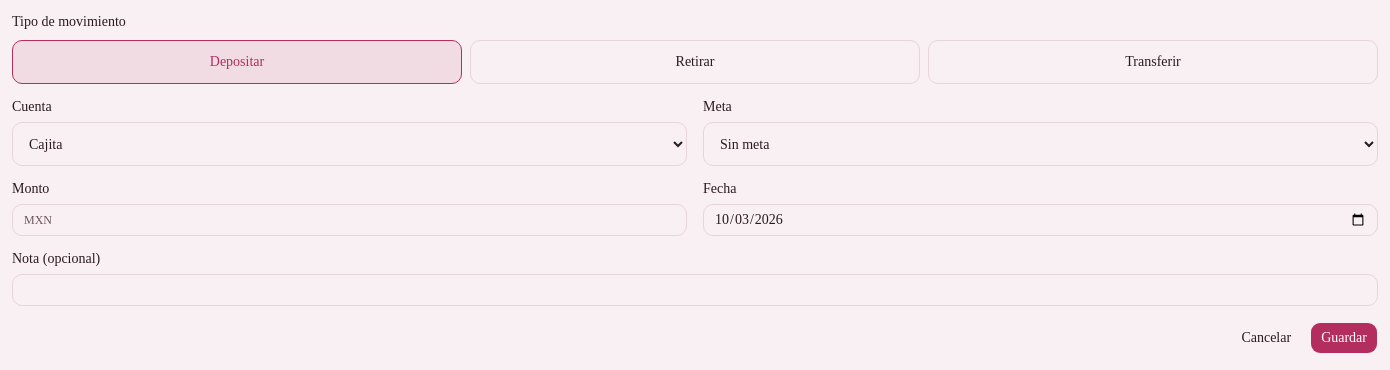
Test: MovementForm › hides the goal and asks for a destination on transfers
What coordinates should you click on to do the following:
click the radio button labelled "Transferir"
I would click on:
 (1153, 62)
Its box is [928,40,1378,84].
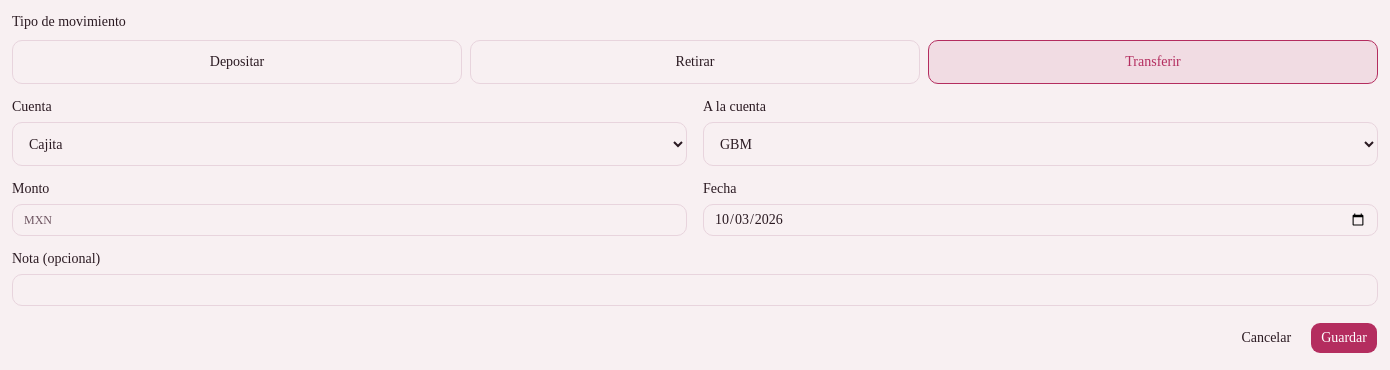
Check: the label labelled "Meta" is gone
